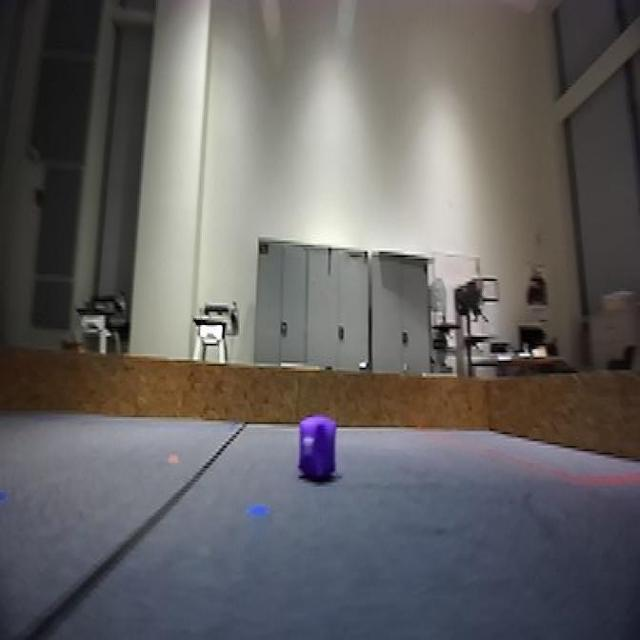frc_cube: (298, 417, 338, 485)
